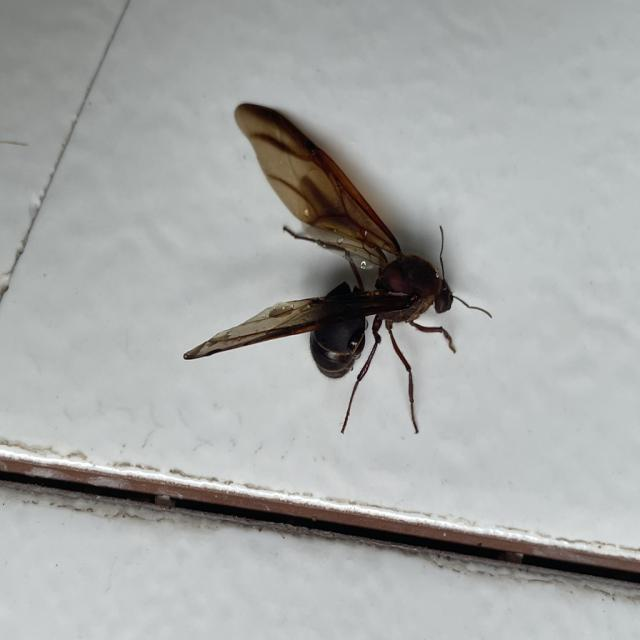Alive-Female-Alate: (183, 103, 492, 436)
